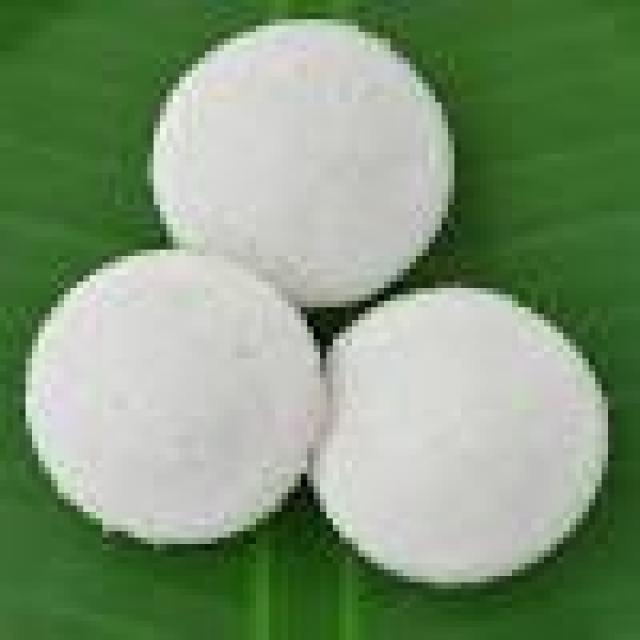Wet Waste: (282, 275, 614, 595), (13, 237, 326, 550), (141, 19, 461, 314)
